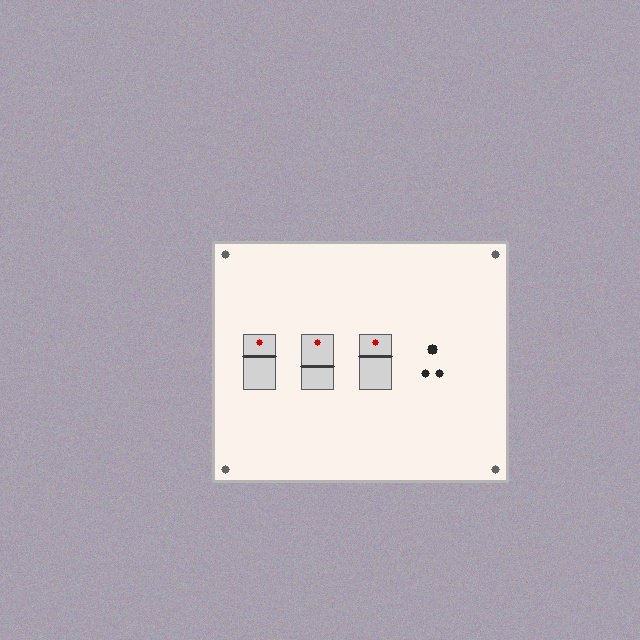switchboard: (213, 242, 507, 481)
